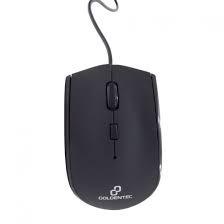mouse: (59, 59, 168, 216)
